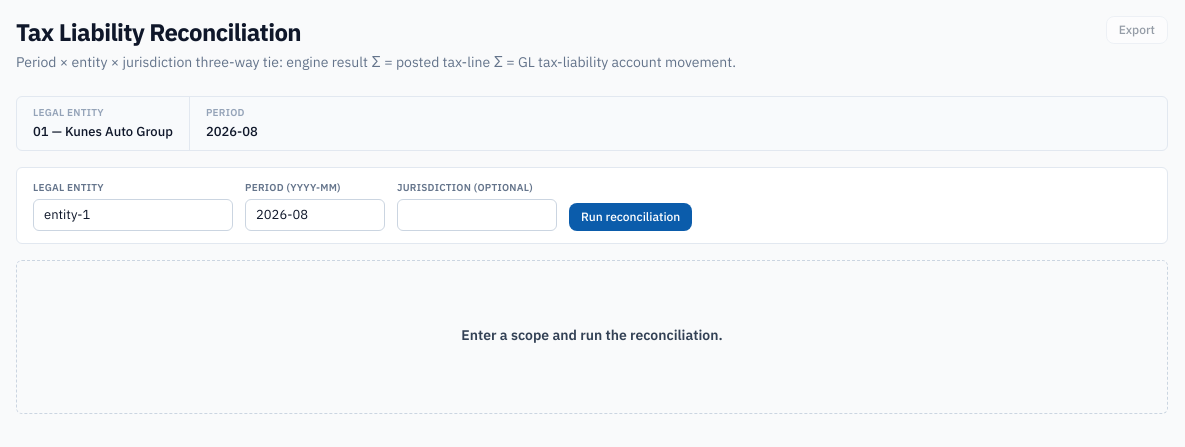
Test: TaxReconciliation › shows an empty state when no jurisdiction activity exists for the scope
The image size is (1185, 447).
Click the button with test id "tax-reconciliation-run": (631, 216) [569,202,692,230]
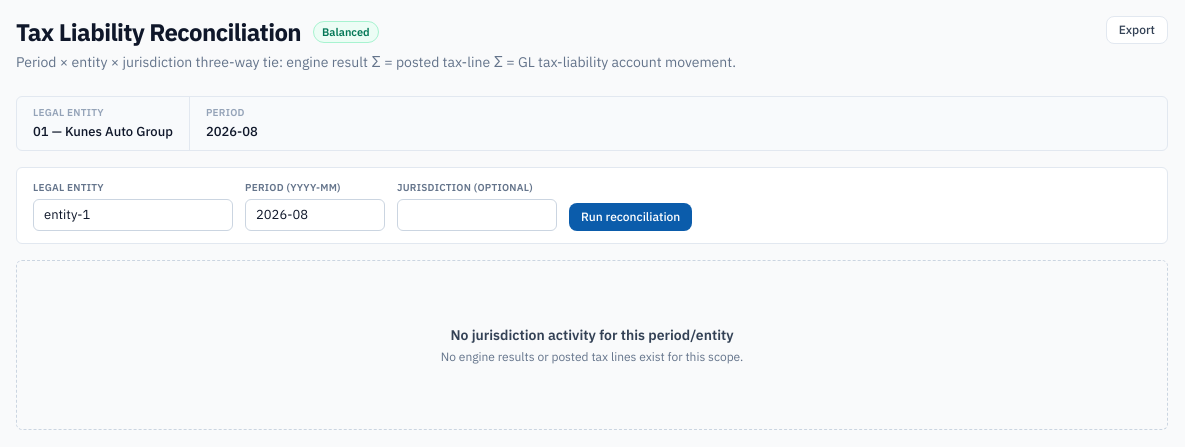
Expected: the element with test id "tax-reconciliation-empty" is shown, [16,260,1168,430]
